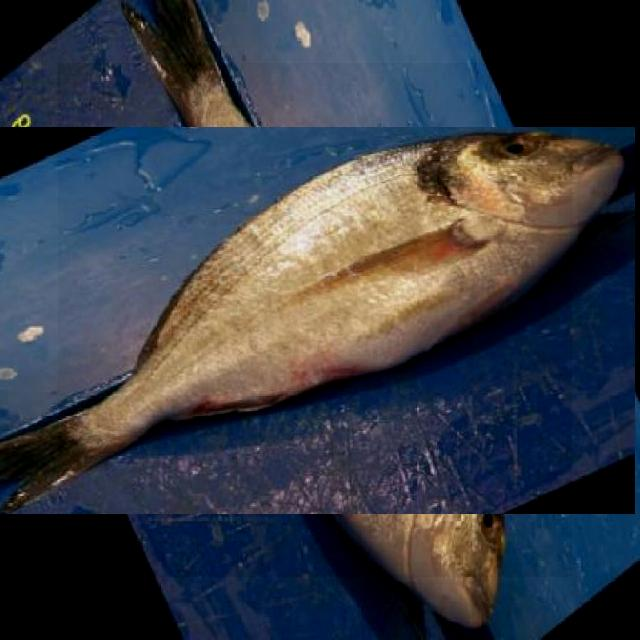Healthy Fish: (59, 63, 572, 577)
